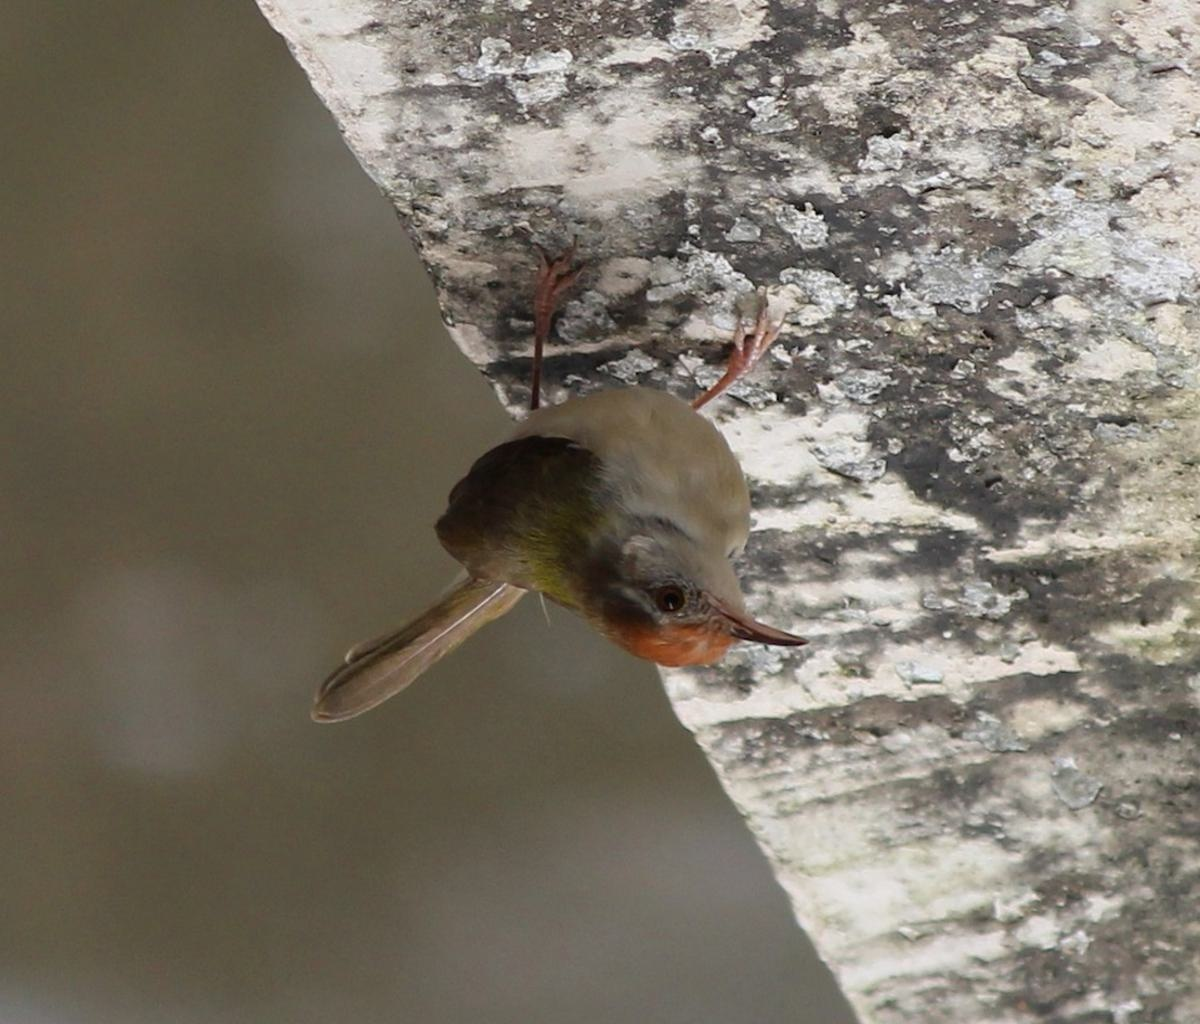tailorbird: (288, 251, 805, 769)
